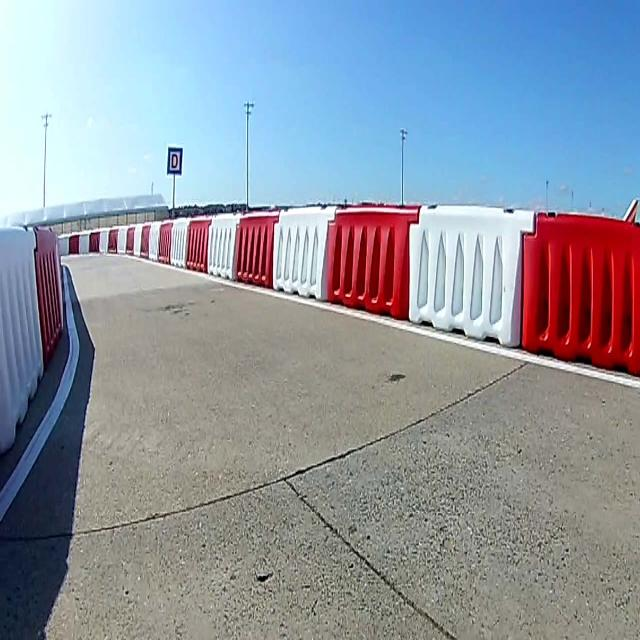durak: (167, 147, 181, 174)
